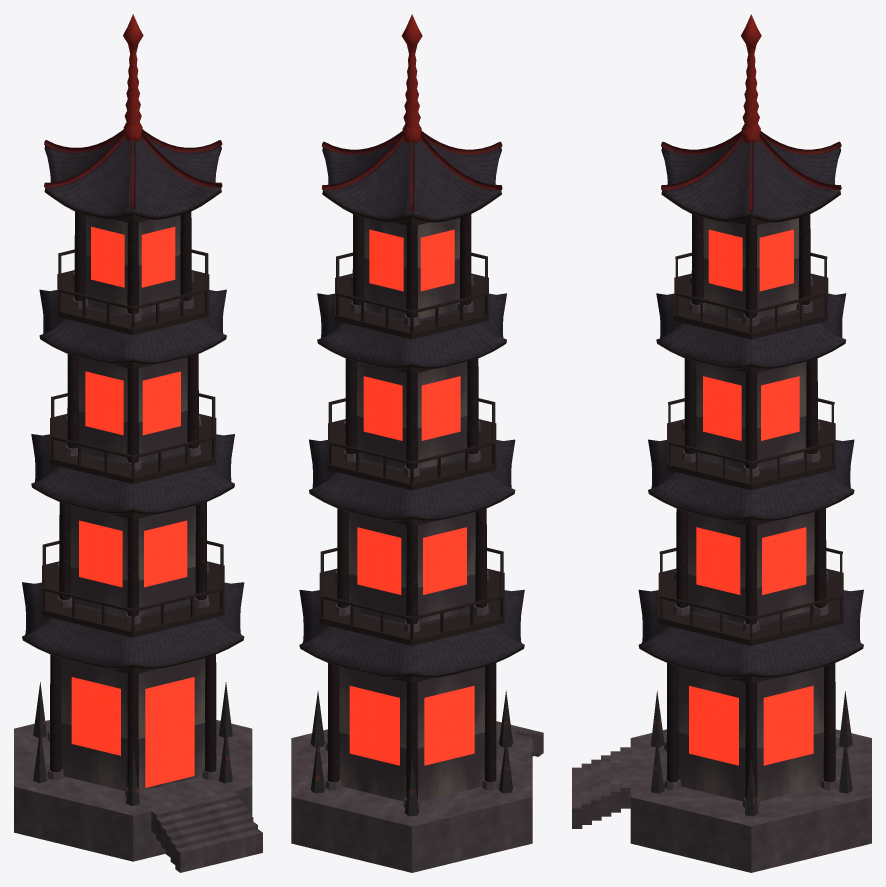
File: watch_spire.glb
The picture shows the model from 3 angles, left to right: view 1: azimuth 30°, elevation 25°; view 2: azimuth 150°, elevation 25°; view 3: azimuth 270°, elevation 25°; orthographic projection.
Visible parts, largest first — view 1: WatchSpireWalls, WatchSpireWindows, WatchSpireBalconies, WatchSpirePlinth, WatchSpirePillars, WatchSpireCap, WatchSpireEave0, WatchSpireEave1, WatchSpireEave2, WatchSpirePlinthSteps, WatchSpireCapRidges, Spikes (+3 smaller); view 2: WatchSpireWalls, WatchSpireWindows, WatchSpirePlinth, WatchSpireBalconies, WatchSpirePillars, WatchSpireCap, WatchSpireEave0, WatchSpireEave1, WatchSpireEave2, WatchSpireCapRidges, Spikes, WatchSpirePillarBases (+3 smaller); view 3: WatchSpireWalls, WatchSpireWindows, WatchSpirePlinth, WatchSpireBalconies, WatchSpirePillars, WatchSpireCap, WatchSpireEave0, WatchSpireEave1, WatchSpireEave2, WatchSpirePlinthSteps, WatchSpireCapRidges, Spikes (+3 smaller).
Boxes of the visible parts, x1,y1,x2,y2 form: WatchSpireWalls: [61, 215, 205, 791]; WatchSpireWindows: [71, 226, 194, 787]; WatchSpireBalconies: [42, 249, 224, 637]; WatchSpirePlinth: [14, 720, 252, 861]; WatchSpirePillars: [50, 211, 216, 789]; WatchSpireCap: [44, 138, 221, 219]; WatchSpireEave0: [22, 582, 244, 669]; WatchSpireEave1: [31, 434, 234, 514]; WatchSpireEave2: [39, 289, 226, 364]; WatchSpirePlinthSteps: [151, 791, 262, 872]; WatchSpireCapRidges: [44, 129, 222, 208]; Spikes: [33, 682, 232, 805]; WatchSpireWalls: [339, 218, 484, 801]; WatchSpireWindows: [349, 229, 474, 765]; WatchSpirePlinth: [291, 729, 532, 872]; WatchSpireBalconies: [319, 252, 504, 645]; WatchSpirePillars: [327, 214, 496, 799]; WatchSpireCap: [322, 139, 501, 222]; WatchSpireEave0: [299, 589, 524, 677]; WatchSpireEave1: [309, 439, 515, 521]; WatchSpireEave2: [317, 293, 506, 369]; WatchSpireCapRidges: [321, 131, 502, 211]; Spikes: [310, 690, 512, 816]; WatchSpirePillarBases: [325, 275, 498, 807]; WatchSpireWalls: [678, 218, 823, 801]; WatchSpireWindows: [689, 229, 813, 765]; WatchSpirePlinth: [630, 729, 871, 872]; WatchSpireBalconies: [658, 252, 843, 645]; WatchSpirePillars: [666, 214, 835, 799]; WatchSpireCap: [661, 140, 840, 222]; WatchSpireEave0: [638, 589, 863, 677]; WatchSpireEave1: [648, 439, 854, 521]; WatchSpireEave2: [656, 293, 846, 369]; WatchSpirePlinthSteps: [572, 747, 630, 828]; WatchSpireCapRidges: [661, 131, 841, 211]; Spikes: [651, 690, 852, 816].
Size of what is drawn, in the model's own units: 9.24 by 29.26 by 9.94.
Materials: 10 (10 with a texture image).
